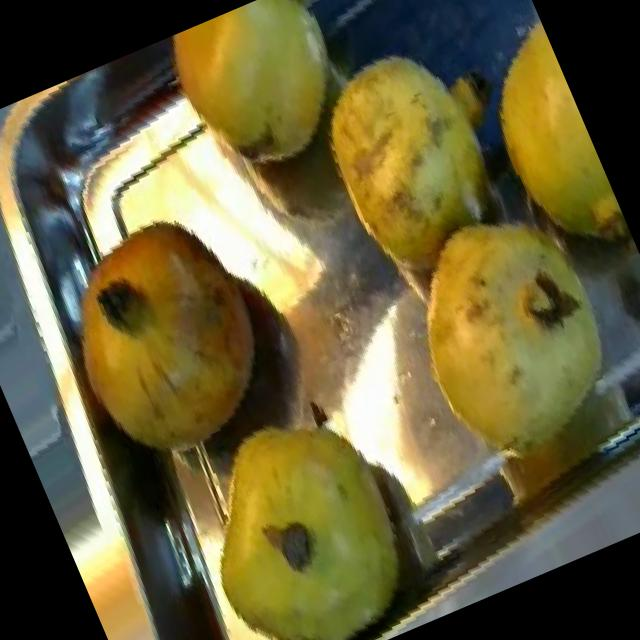fruit: (19, 168, 321, 498), (357, 152, 640, 479), (138, 357, 463, 640), (274, 0, 551, 301), (128, 0, 398, 220)
